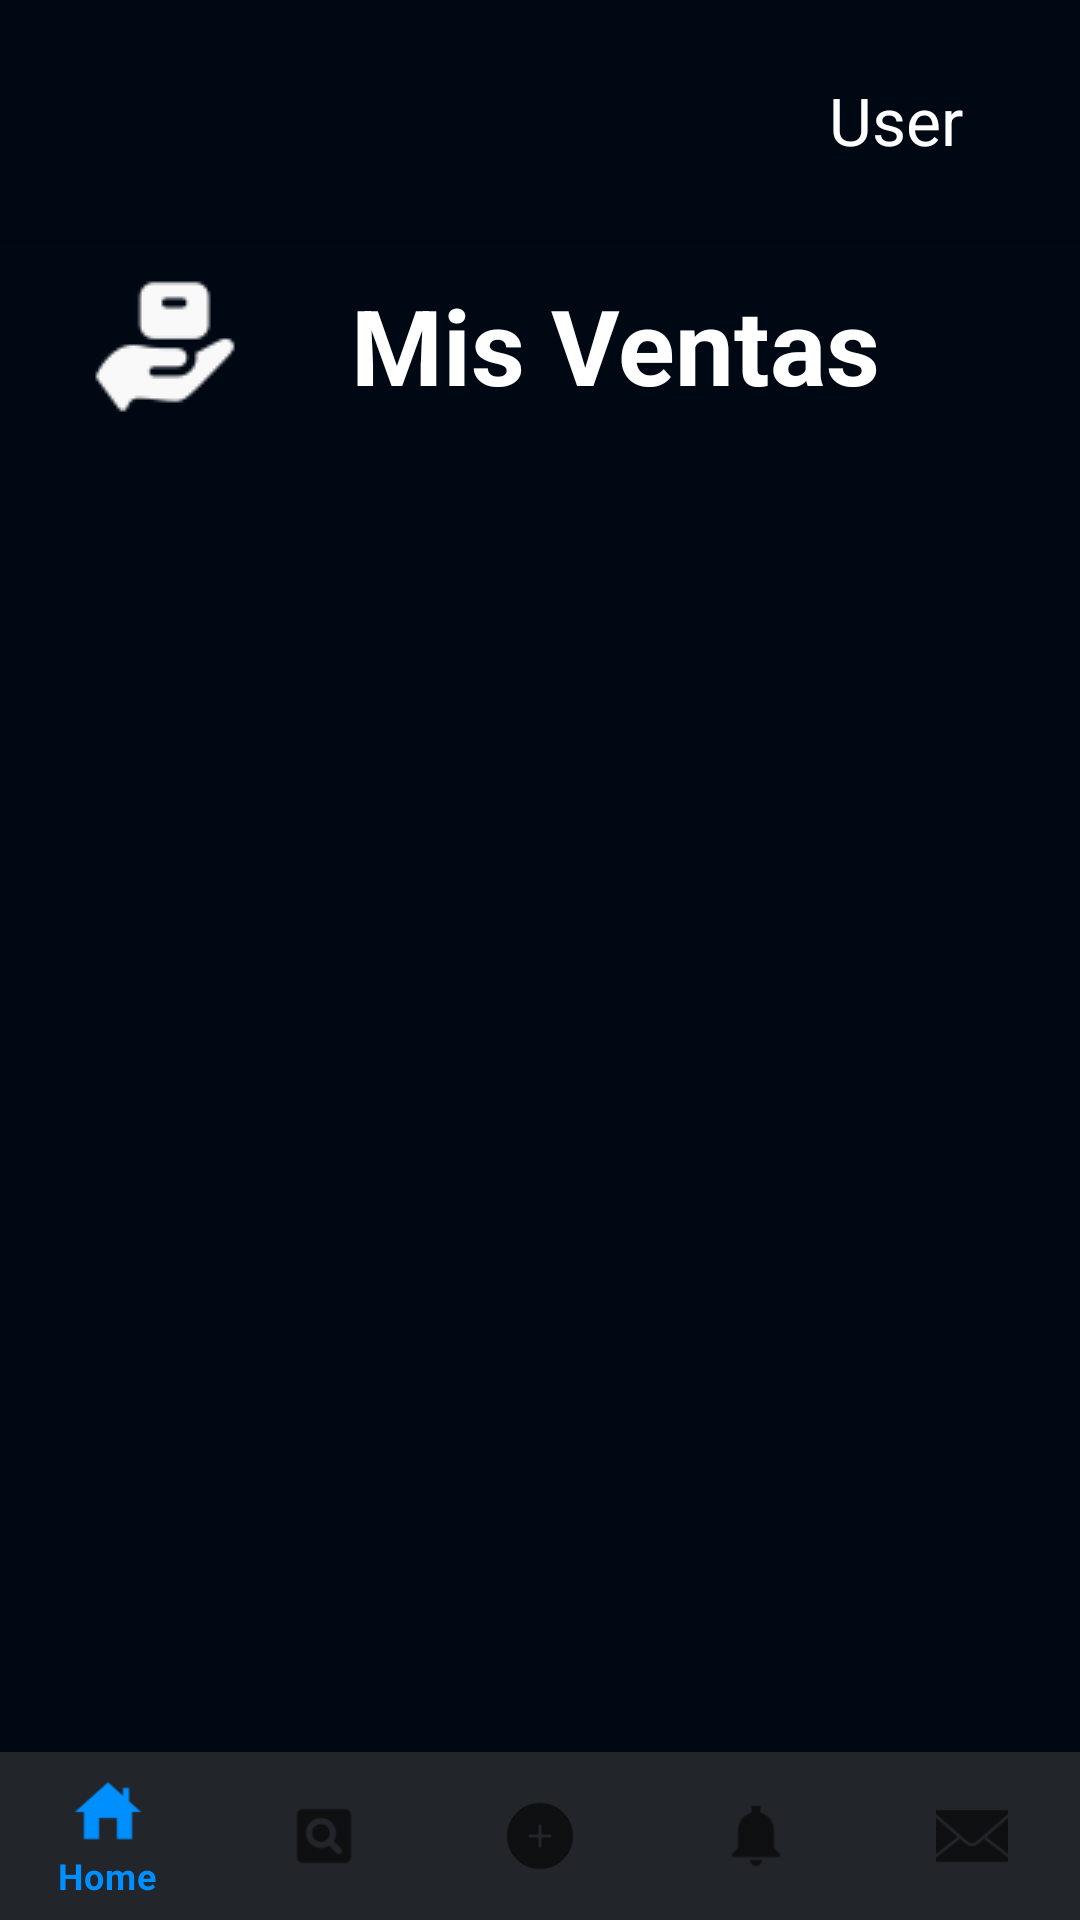

Named icons in this screenshot (1080 x 1920) and their bounding boxes, (x1, y1, x2, y2):
order: (95, 281, 235, 412)
